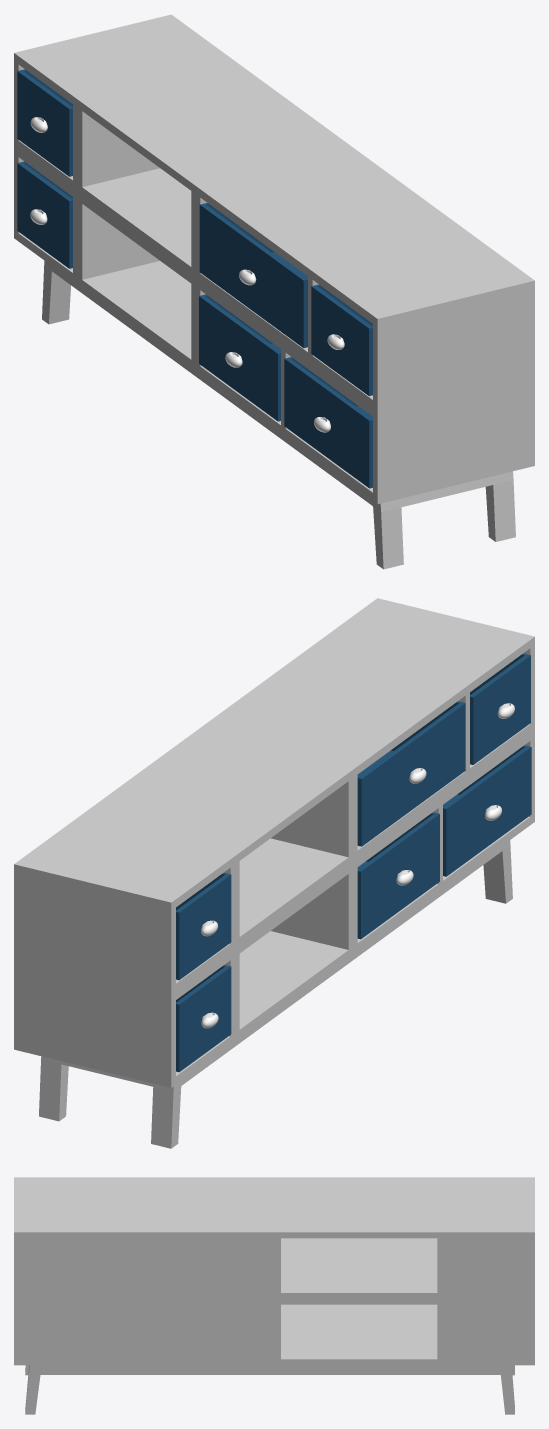
File: Simple_Table.FBX
3 views of the same model, one above another, from view 1: azimuth 30°, elevation 25°; view 2: azimuth 150°, elevation 25°; view 3: azimuth 270°, elevation 25° (orthographic). The views are drawn at different scales.
Parts seen in each view (by area): view 1: Boîte001; view 2: Boîte001; view 3: Boîte001.
Boxes of the visible parts, box(x1,y1,x2,y2) form: Boîte001: box(14, 14, 534, 569); Boîte001: box(14, 598, 534, 1148); Boîte001: box(14, 1177, 534, 1414).
Bounding box in the file's own units: 8.01 × 11.68 × 29.63.
